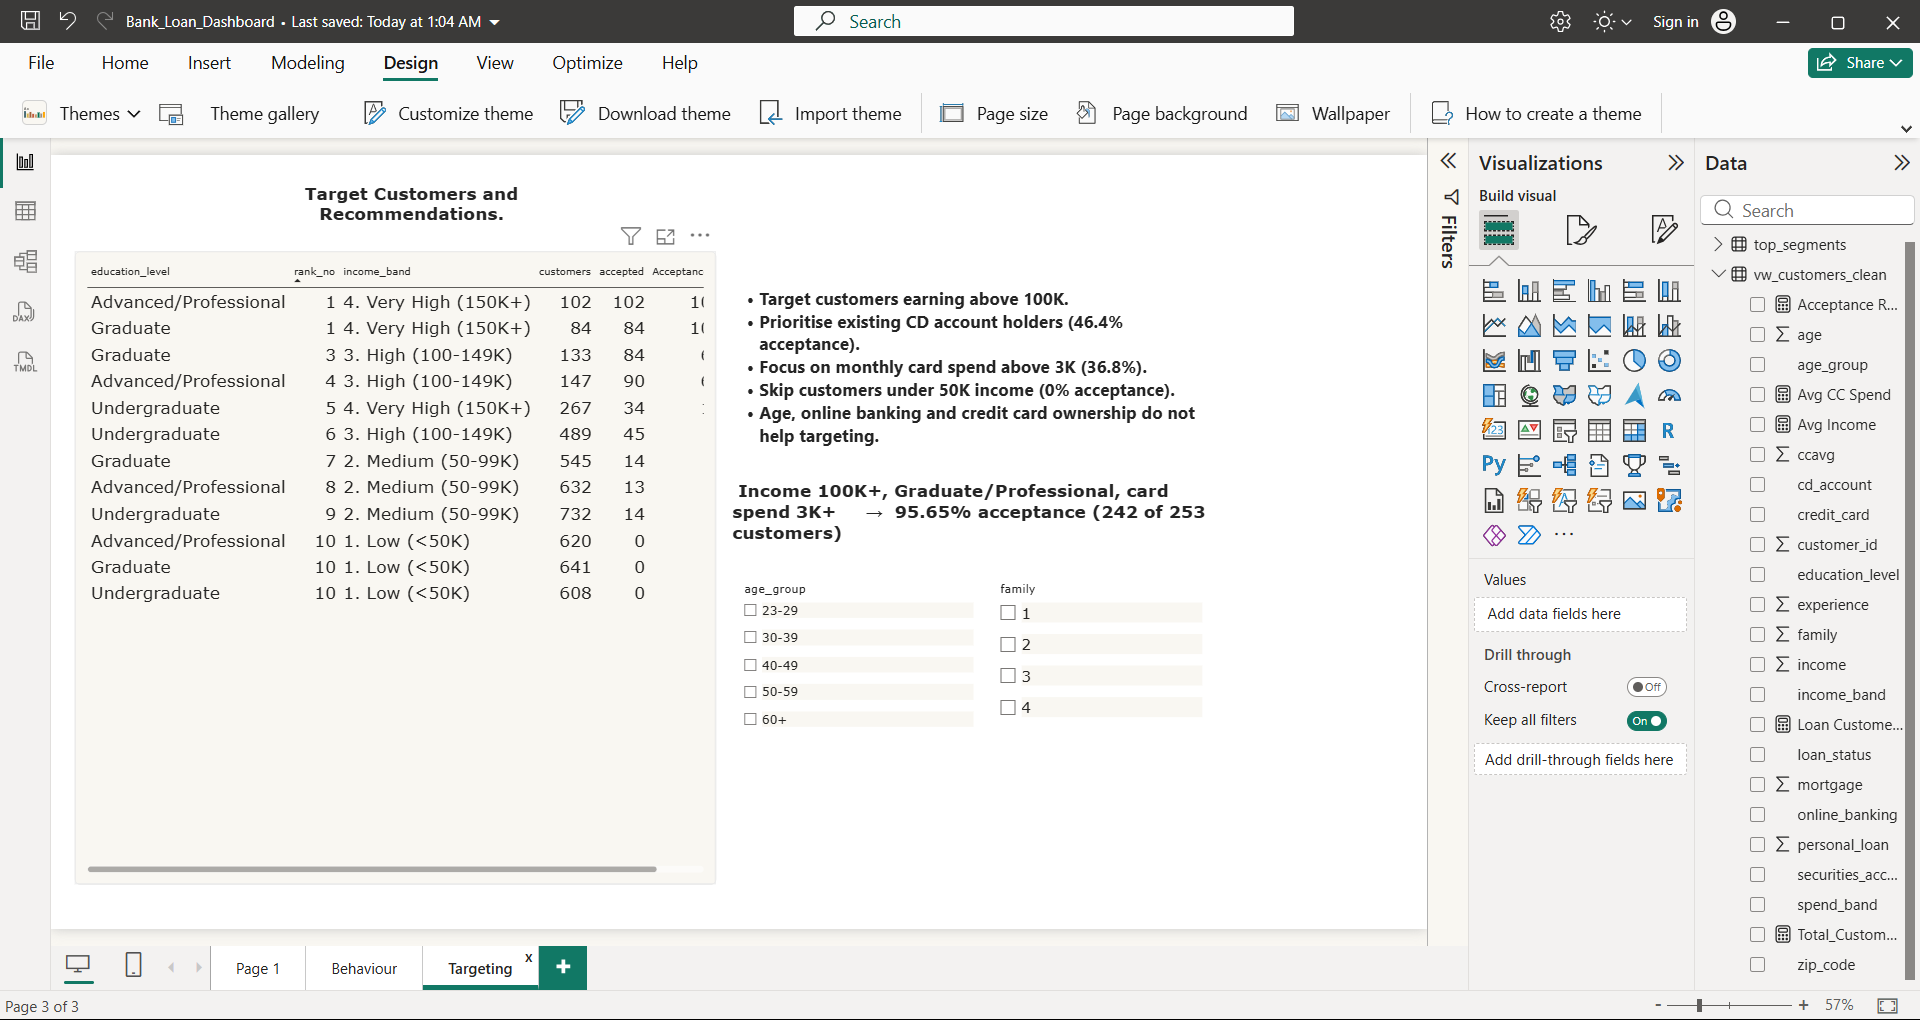

This screenshot's page, from the dashboard's own definition file:
{"tool":"powerbi","page":{"name":"Targeting","canvas":[1920,1080],"ordinal":2},"visuals":[{"type":"tableEx","fields":{"Values":["top_segments.education_level","top_segments.rank_no","top_segments.income_band","top_segments.customers","top_segments.accepted","top_segments.acceptance_rate_pct"]},"box":[33,133.9,895.1,884.1],"z":0},{"type":"textbox","box":[950.1,453.1,671.3,102.7],"z":1000},{"type":"textbox","box":[952,183.4,654.8,264.1],"z":2000},{"type":"textbox","box":[256.8,38.5,493.4,75.2],"z":3000},{"type":"slicer","fields":{"Values":["vw_customers_clean.age_group"]},"box":[959.3,594.3,328.3,321],"z":4000},{"type":"slicer","fields":{"Values":["vw_customers_clean.family"]},"box":[1317,594.3,289.8,319.2],"z":4001}]}

Visuals, with their boxes on the page's 1920x1080 design canvas (x1, y1, x2, y2). These are canvas units, not pixel positions in the 1920x1020 screenshot, which may show the page scaled, cropped or inside an application window:
tableEx - top_segments.education_level x top_segments.rank_no: {"x1": 33, "y1": 134, "x2": 928, "y2": 1018}
textbox: {"x1": 950, "y1": 453, "x2": 1621, "y2": 556}
textbox: {"x1": 952, "y1": 183, "x2": 1607, "y2": 448}
textbox: {"x1": 257, "y1": 38, "x2": 750, "y2": 114}
slicer - vw_customers_clean.age_group: {"x1": 959, "y1": 594, "x2": 1288, "y2": 915}
slicer - vw_customers_clean.family: {"x1": 1317, "y1": 594, "x2": 1607, "y2": 914}
